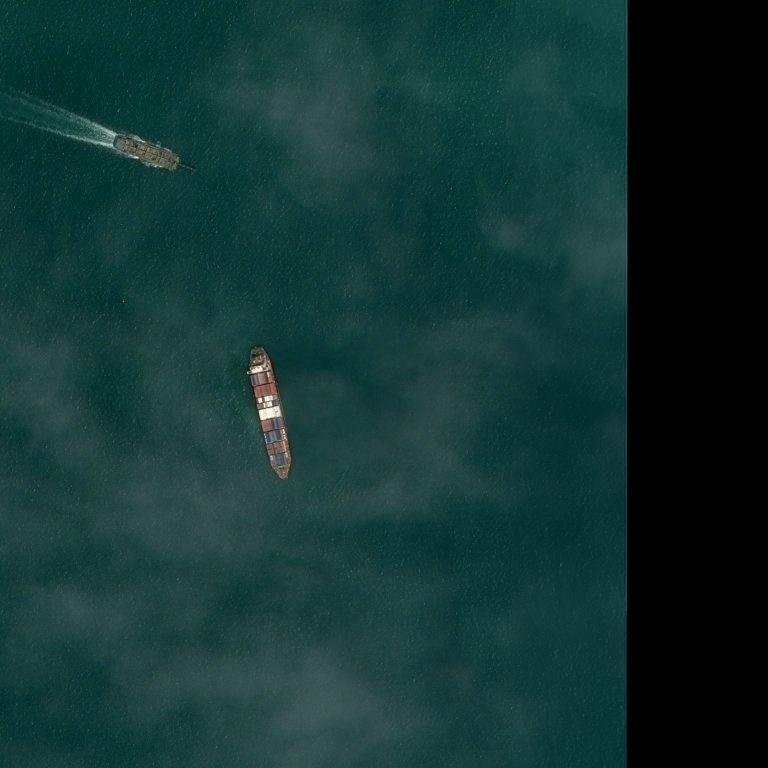ship: (205, 0, 261, 99), (175, 164, 194, 173), (111, 151, 180, 152)
